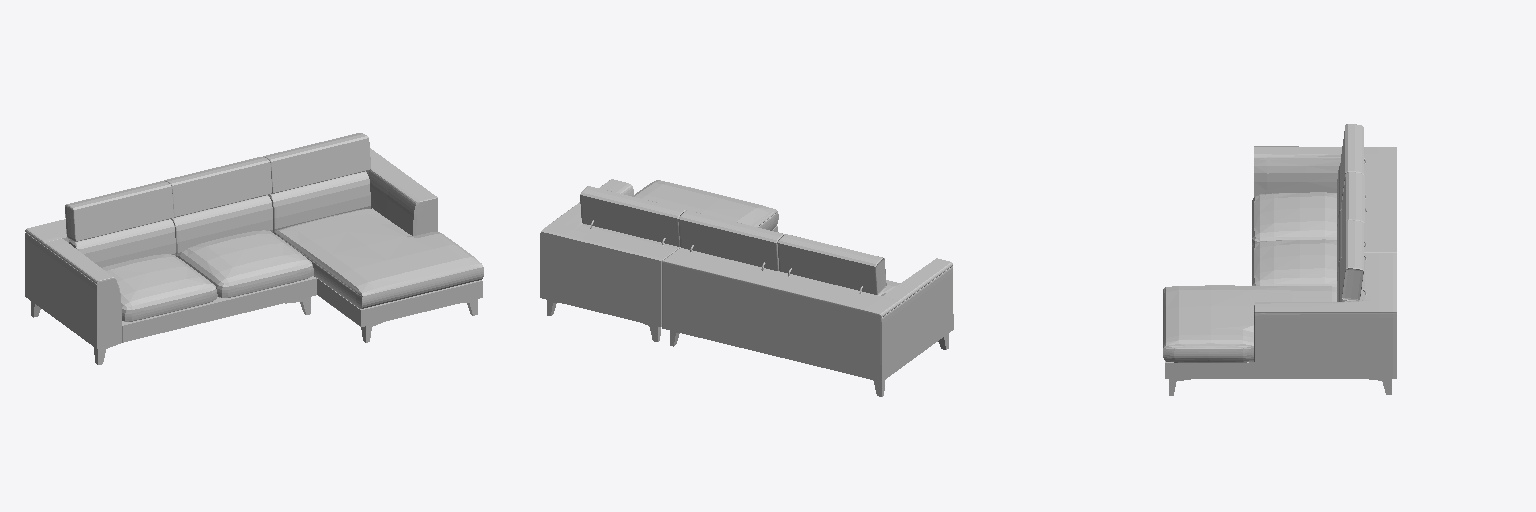
Rendered from chelsea.obj.
3 views of the same model, side by side, from view 1: azimuth 30°, elevation 25°; view 2: azimuth 150°, elevation 25°; view 3: azimuth 270°, elevation 25° (orthographic).
Parts seen in each view (by area): view 1: Cube.008_Cube.015, Cube.006_Cube.004, Cube.007_Cube.011, Cube.013_Cube.018; view 2: Cube.007_Cube.011, Cube.006_Cube.004, Cube.008_Cube.015, Cube.013_Cube.018; view 3: Cube.007_Cube.011, Cube.008_Cube.015, Cube.006_Cube.004.
Boxes of the visible parts, <box> form: Cube.008_Cube.015: <box>102,208,483,321</box>; Cube.006_Cube.004: <box>65,133,370,267</box>; Cube.007_Cube.011: <box>25,148,482,348</box>; Cube.013_Cube.018: <box>31,297,477,364</box>; Cube.007_Cube.011: <box>540,179,953,381</box>; Cube.006_Cube.004: <box>580,186,886,295</box>; Cube.008_Cube.015: <box>635,180,900,292</box>; Cube.013_Cube.018: <box>547,300,948,396</box>; Cube.007_Cube.011: <box>1165,146,1396,378</box>; Cube.008_Cube.015: <box>1163,192,1336,362</box>; Cube.006_Cube.004: <box>1337,124,1364,301</box>.
Size of the model in its own units: 107 by 35.21 by 62.81.